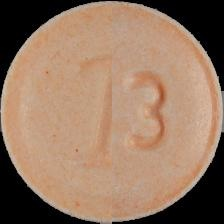51285-063: (0, 0, 224, 224)
